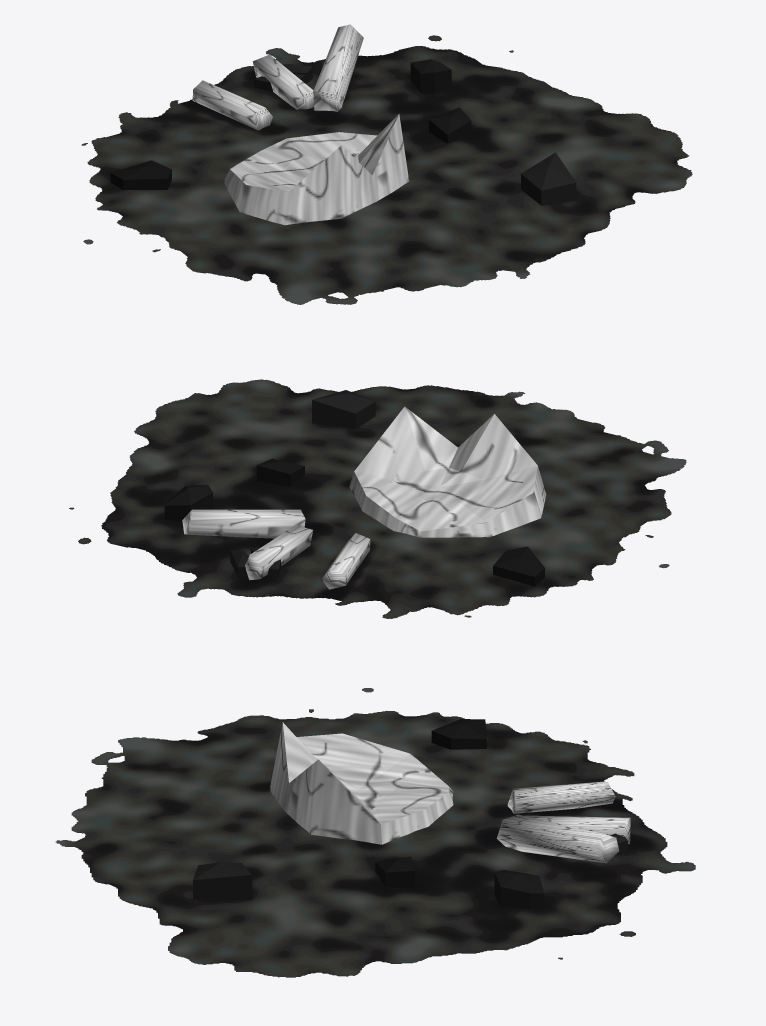
File: CreTreesmudge01.glb
3 renders of one model, top to bottom at view 1: azimuth 30°, elevation 25°; view 2: azimuth 150°, elevation 25°; view 3: azimuth 270°, elevation 25°, orthographic. The views are drawn at different scales.
Visible parts, largest first — view 1: CreTreesmudge01_bed; view 2: CreTreesmudge01_bed; view 3: CreTreesmudge01_bed.
Part boxes in pixels (<box>): CreTreesmudge01_bed: <box>81,24,692,304</box>; CreTreesmudge01_bed: <box>69,379,686,618</box>; CreTreesmudge01_bed: <box>55,688,695,977</box>.
Size of the model in its own units: 2.39 by 0.3046 by 2.21.
3 materials, 2 textured.
